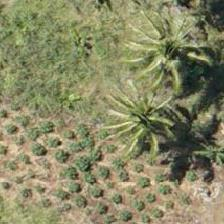coconut_tree: (101, 70, 191, 160), (128, 4, 218, 94)
